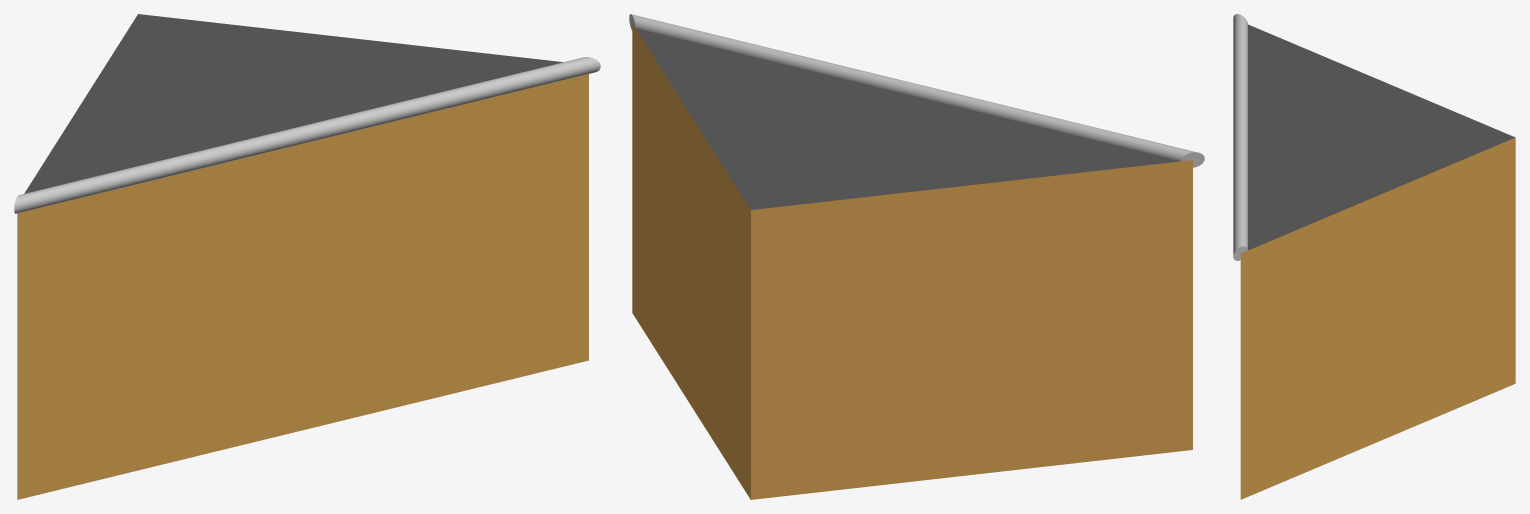
File: Skate_Box_Corner_Half_Single_Rail_01.FBX
3 renders of one model, left to right at view 1: azimuth 30°, elevation 25°; view 2: azimuth 150°, elevation 25°; view 3: azimuth 270°, elevation 25°, orthographic. The views are drawn at different scales.
Visible parts, largest first — view 1: Skate_Box_Corner_Half_Single_Rail_01; view 2: Skate_Box_Corner_Half_Single_Rail_01; view 3: Skate_Box_Corner_Half_Single_Rail_01.
Part boxes in pixels (x1=…): Skate_Box_Corner_Half_Single_Rail_01: x1=14, y1=14, x2=600, y2=499; Skate_Box_Corner_Half_Single_Rail_01: x1=629, y1=14, x2=1204, y2=499; Skate_Box_Corner_Half_Single_Rail_01: x1=1233, y1=14, x2=1515, y2=499.
Bounding box in the file's own units: 3.08 × 1.52 × 1.54.
